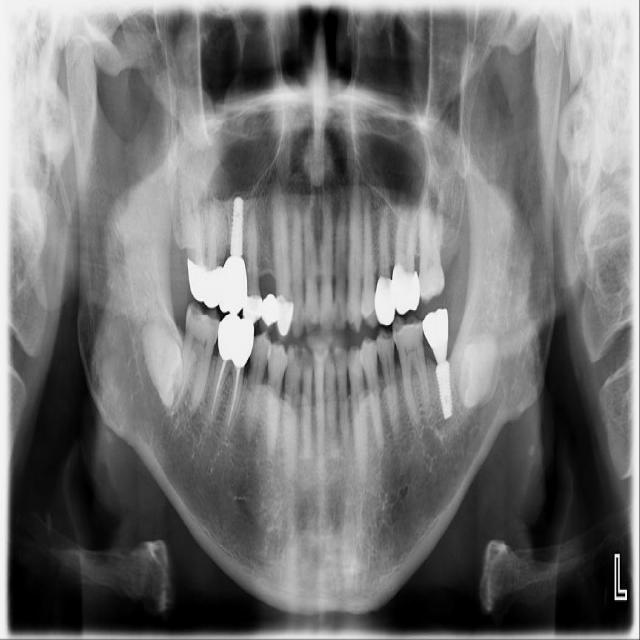Crown: (243, 293, 294, 342), (217, 313, 254, 368), (187, 257, 224, 308), (219, 255, 247, 315), (422, 307, 449, 364), (391, 262, 420, 315), (374, 276, 396, 326)
Implant: (436, 361, 452, 421), (231, 196, 243, 258)
Root Canal Treatment: (213, 359, 231, 413), (227, 368, 244, 421)
impacted tooth: (140, 306, 184, 406), (458, 329, 503, 406)
